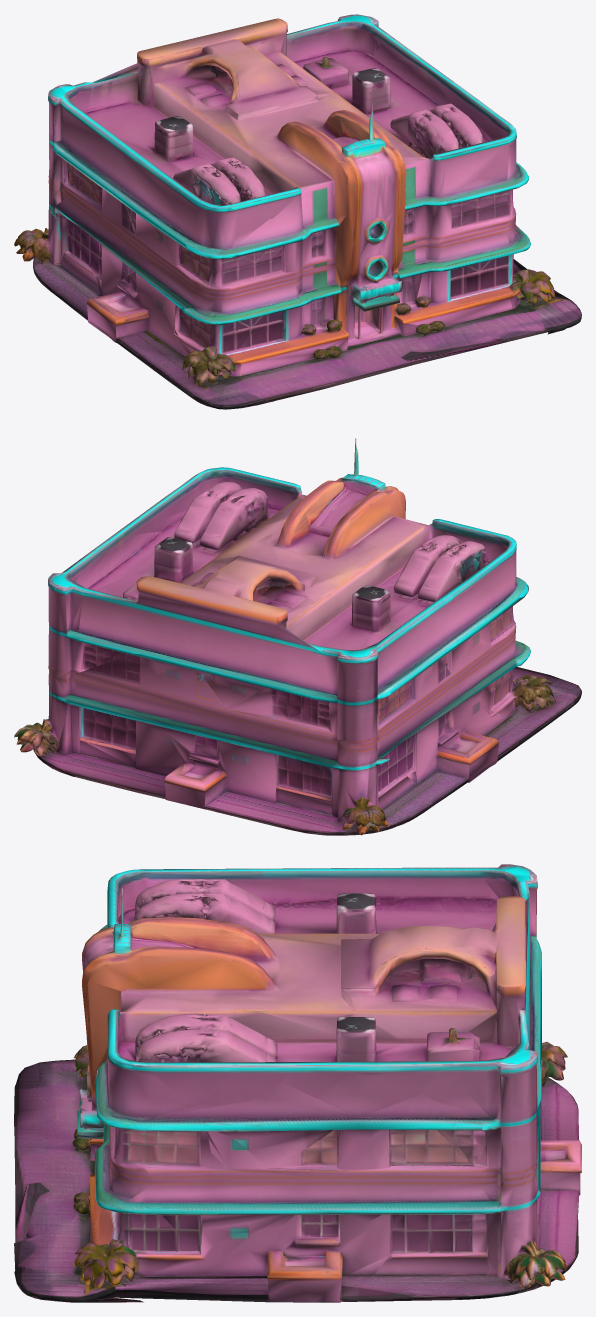
The model's file is deco-hotel-meshy.glb.
3 renders of one model, top to bottom at view 1: azimuth 30°, elevation 25°; view 2: azimuth 150°, elevation 25°; view 3: azimuth 270°, elevation 25°, orthographic. The views are drawn at different scales.
Visible parts, largest first — view 1: Mesh_0; view 2: Mesh_0; view 3: Mesh_0.
Boxes of the visible parts, x1,y1,x2,y2 form: Mesh_0: (14, 14, 581, 409); Mesh_0: (14, 438, 581, 835); Mesh_0: (14, 864, 581, 1302).
Bounding box in the file's own units: 1.9 × 1.11 × 1.9.
Materials: 1 (1 with a texture image).
